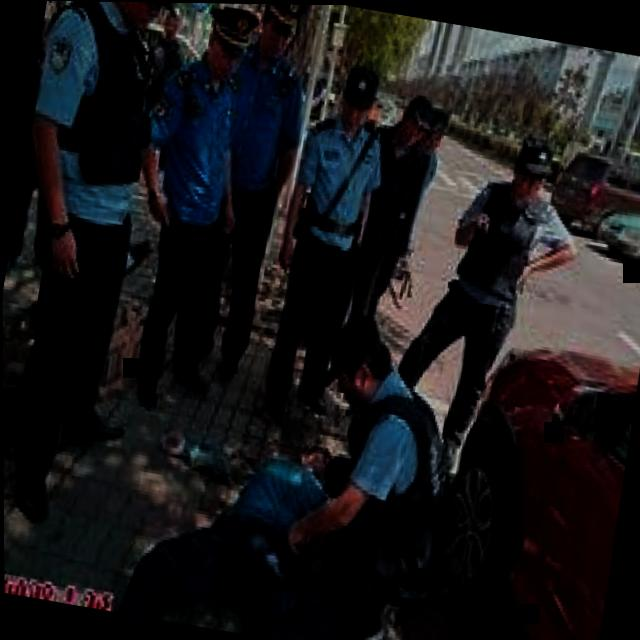Fall-Detected: (84, 389, 370, 640)
